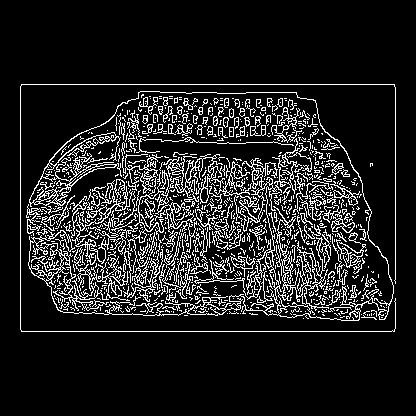buddha-sitting: (54, 124, 218, 219)
